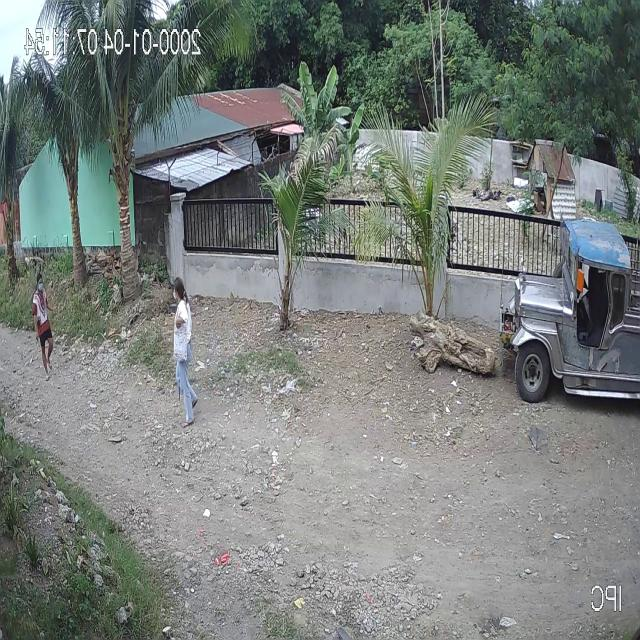walking: (171, 275, 203, 429), (30, 268, 56, 382)
